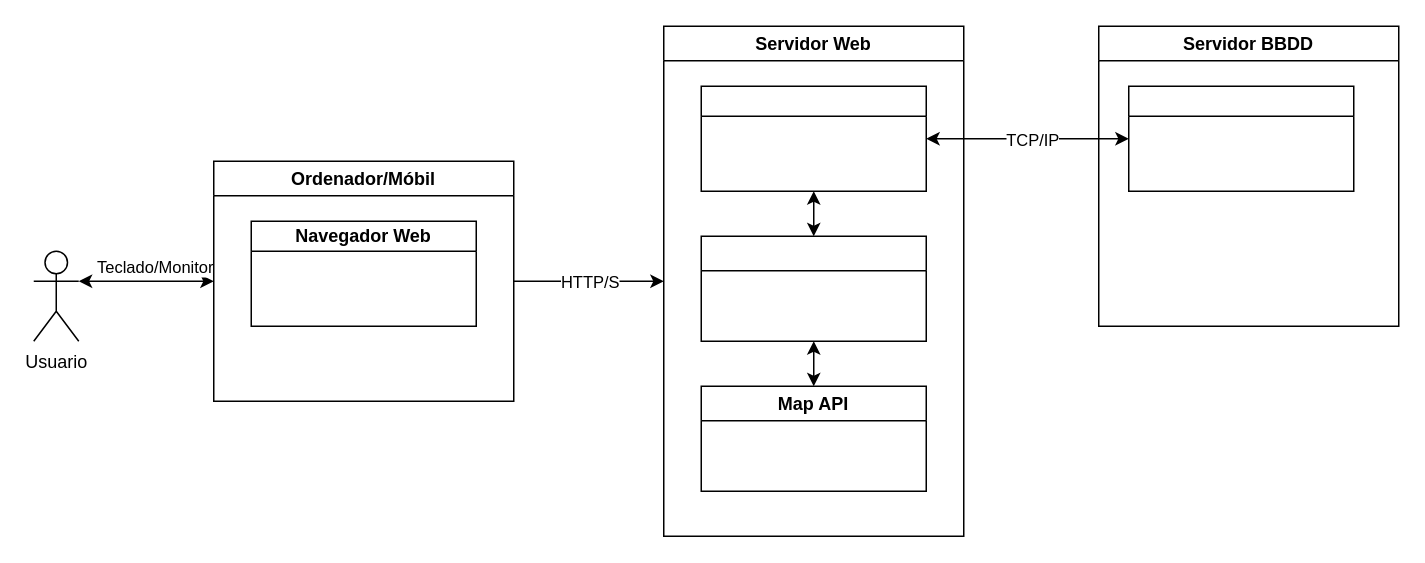
Some shapes in this 1425 by 563 pixel diagram are drawn without their labels. Here are the shapes that lost their labels. From the top down, the centre of each, then its label:
At point 813,138: "API Rest".
At point 1240,138: "BBDD NoSQL".
At point 813,288: "Interface de Usuario".
